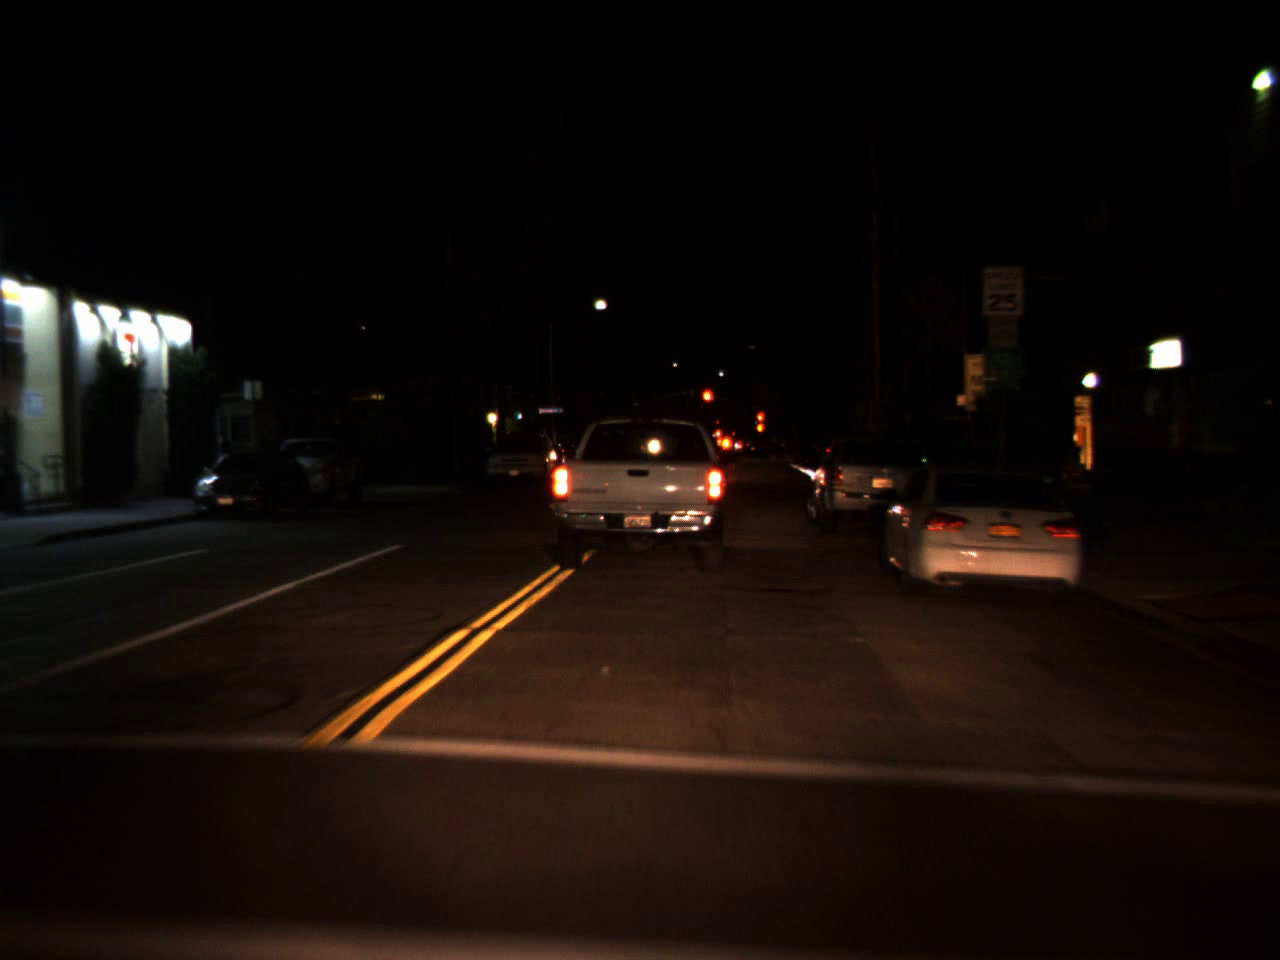stop: (700, 387, 713, 414), (755, 412, 765, 430)
